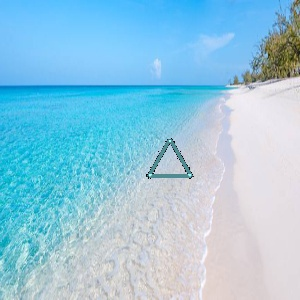triangle: (143, 136, 194, 180)
